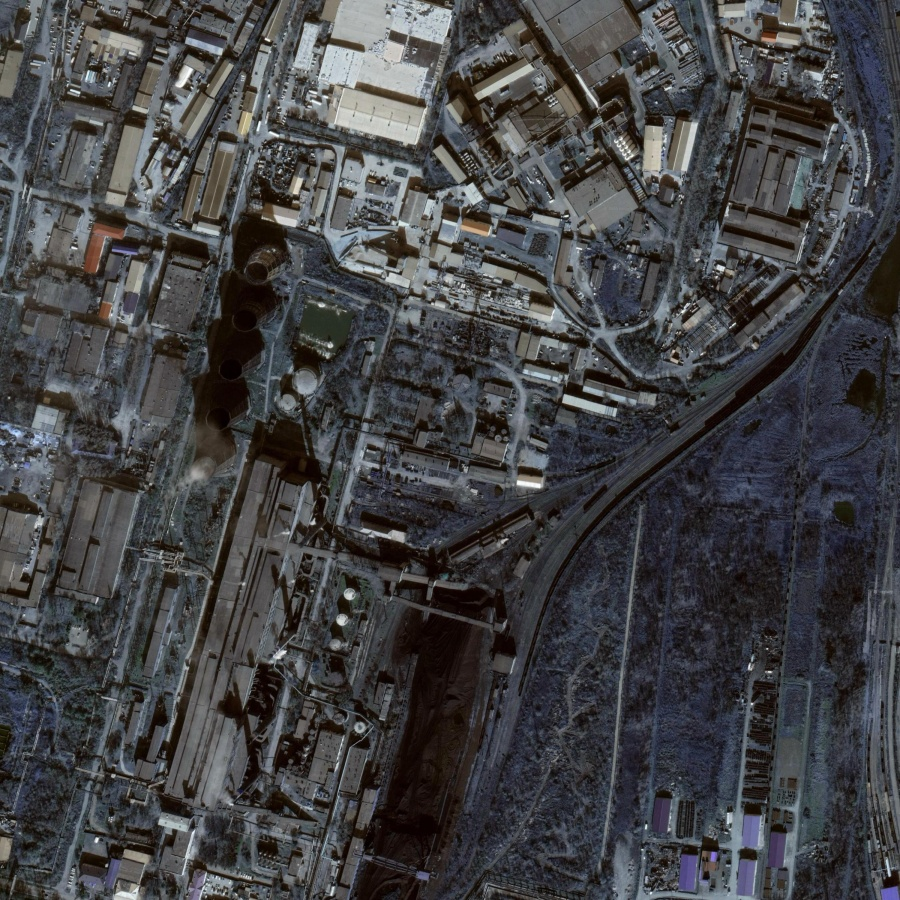PowerPlant: (160, 196, 330, 535)
